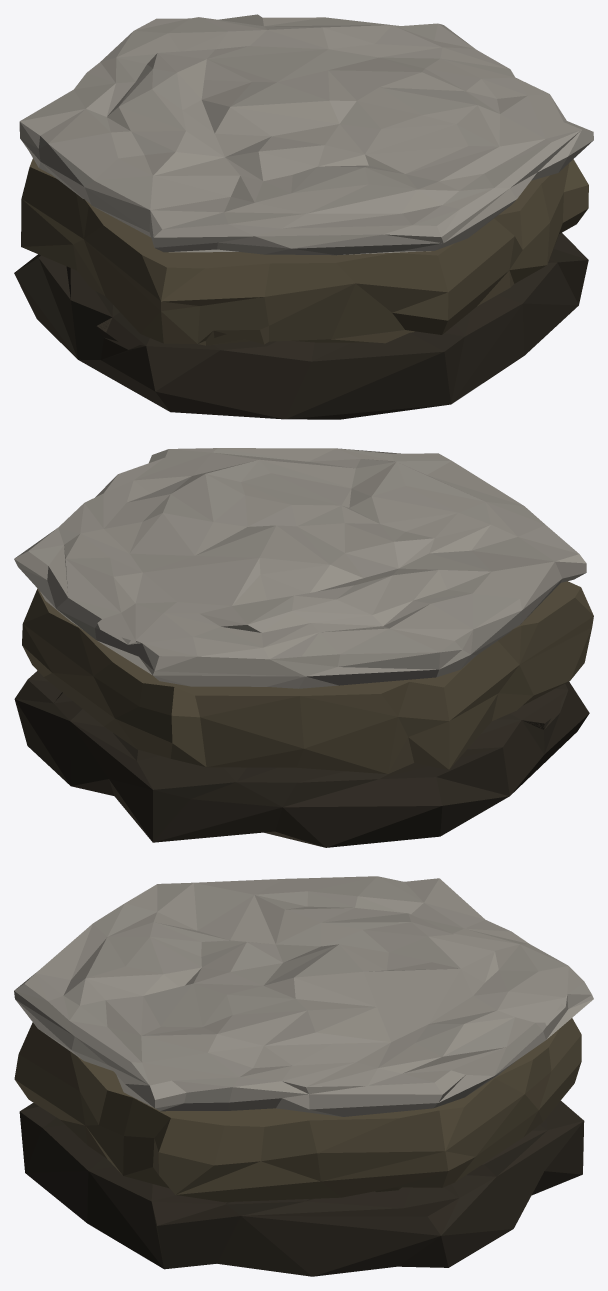
Rendered from stone2.fbx.
The picture shows the model from 3 angles, top to bottom: view 1: azimuth 30°, elevation 25°; view 2: azimuth 150°, elevation 25°; view 3: azimuth 270°, elevation 25°; orthographic projection.
Parts seen in each view (by area): view 1: stone2; view 2: stone2; view 3: stone2.
Part boxes in pixels (bbox=[...]): stone2: bbox=[14, 14, 593, 419]; stone2: bbox=[14, 448, 593, 847]; stone2: bbox=[14, 876, 593, 1276].
Size of the model in its own units: 971 by 445 by 1095.
